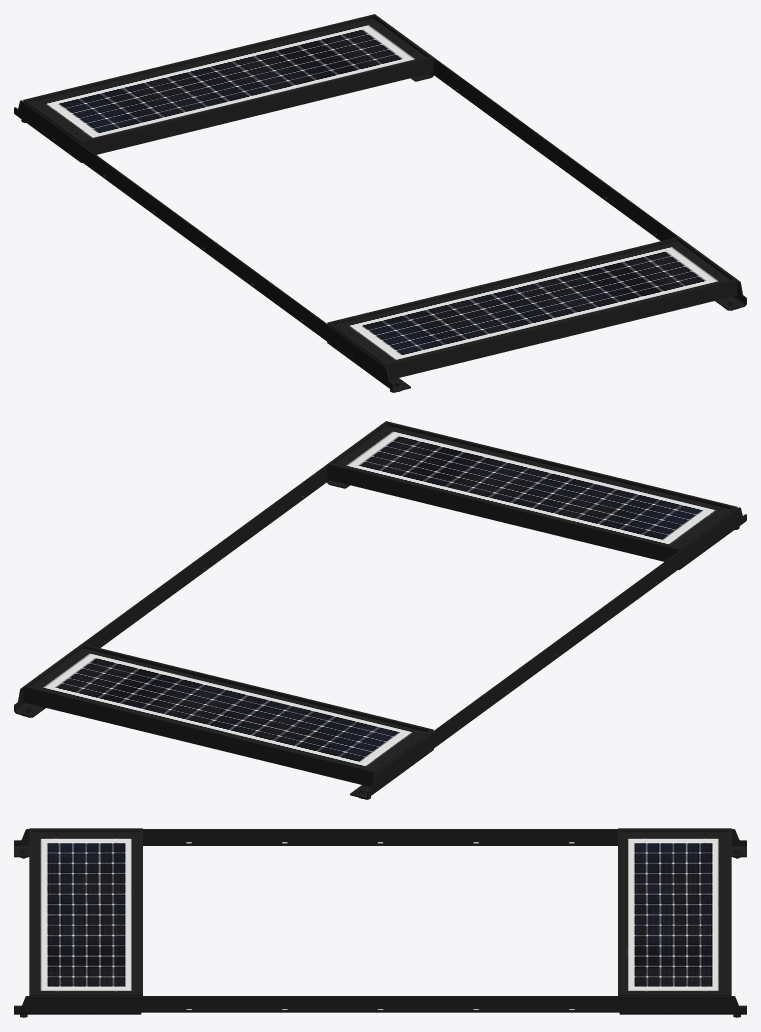
3 views of the same model, one above another, from view 1: azimuth 30°, elevation 25°; view 2: azimuth 150°, elevation 25°; view 3: azimuth 270°, elevation 25° (orthographic). The views are drawn at different scales.
Visible parts, largest first — view 1: solar30; view 2: solar30; view 3: solar30.
Part boxes in pixels (x1,y1,x2,y2): solar30: [14, 14, 746, 392]; solar30: [14, 421, 746, 799]; solar30: [14, 828, 746, 1017].
Bounding box in the file's own units: 0.8414 × 0.0595 × 1.56.
1 material, 1 textured.
